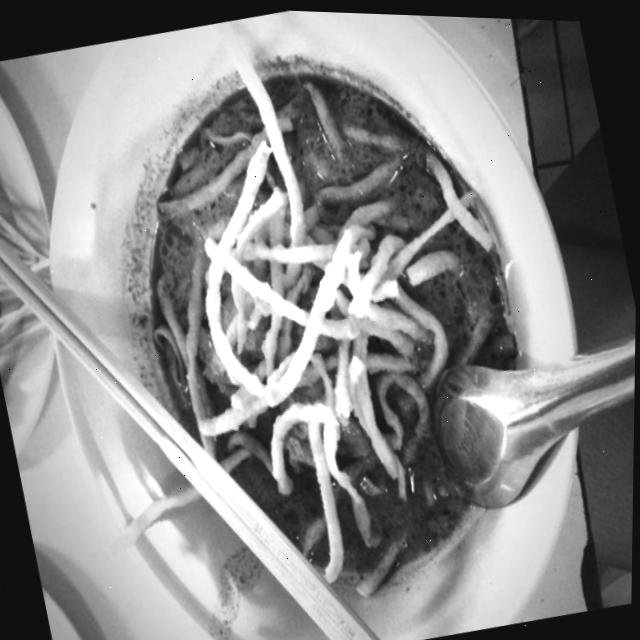面条主食: (18, 1, 591, 640)
